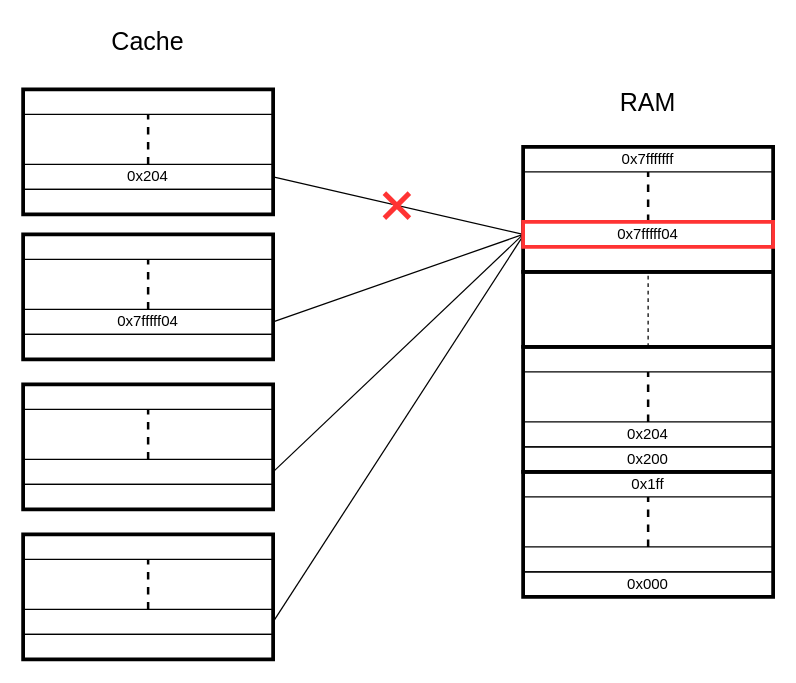
This 796x683 diagram has some shape labels left out. Each missing label, with the box of its shape:
0x004: (522, 546, 773, 572)
0x3ff: (522, 346, 773, 372)
0x7fffff00: (522, 246, 773, 272)
